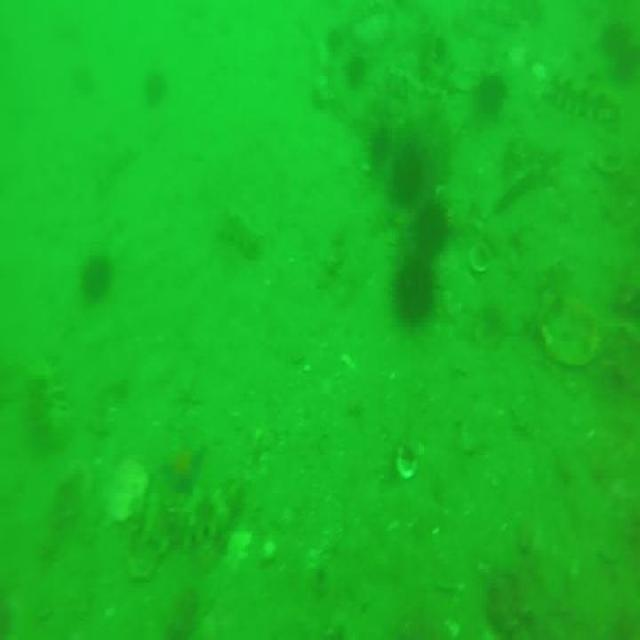echinus: (392, 253, 435, 321), (390, 147, 430, 201), (414, 196, 449, 251), (78, 256, 113, 305), (480, 71, 506, 120), (370, 126, 388, 163), (347, 56, 368, 86), (144, 72, 164, 102), (329, 28, 340, 49)
holothurian: (143, 469, 244, 553), (546, 62, 620, 120), (25, 346, 62, 439)
scallop: (104, 455, 148, 528), (468, 238, 494, 274), (398, 442, 420, 482)
